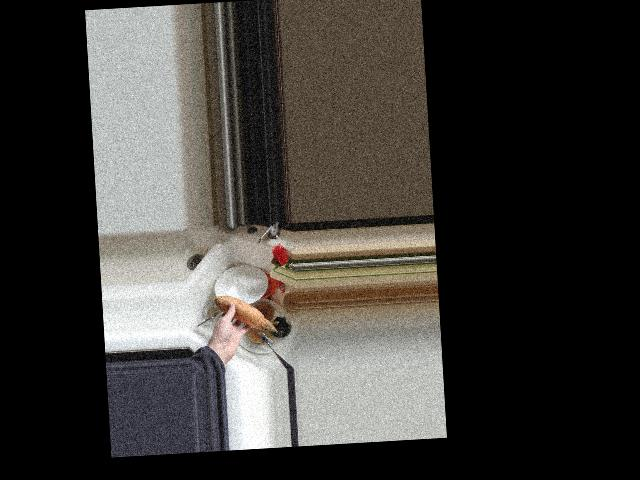sweet_potato: (213, 290, 276, 338)
